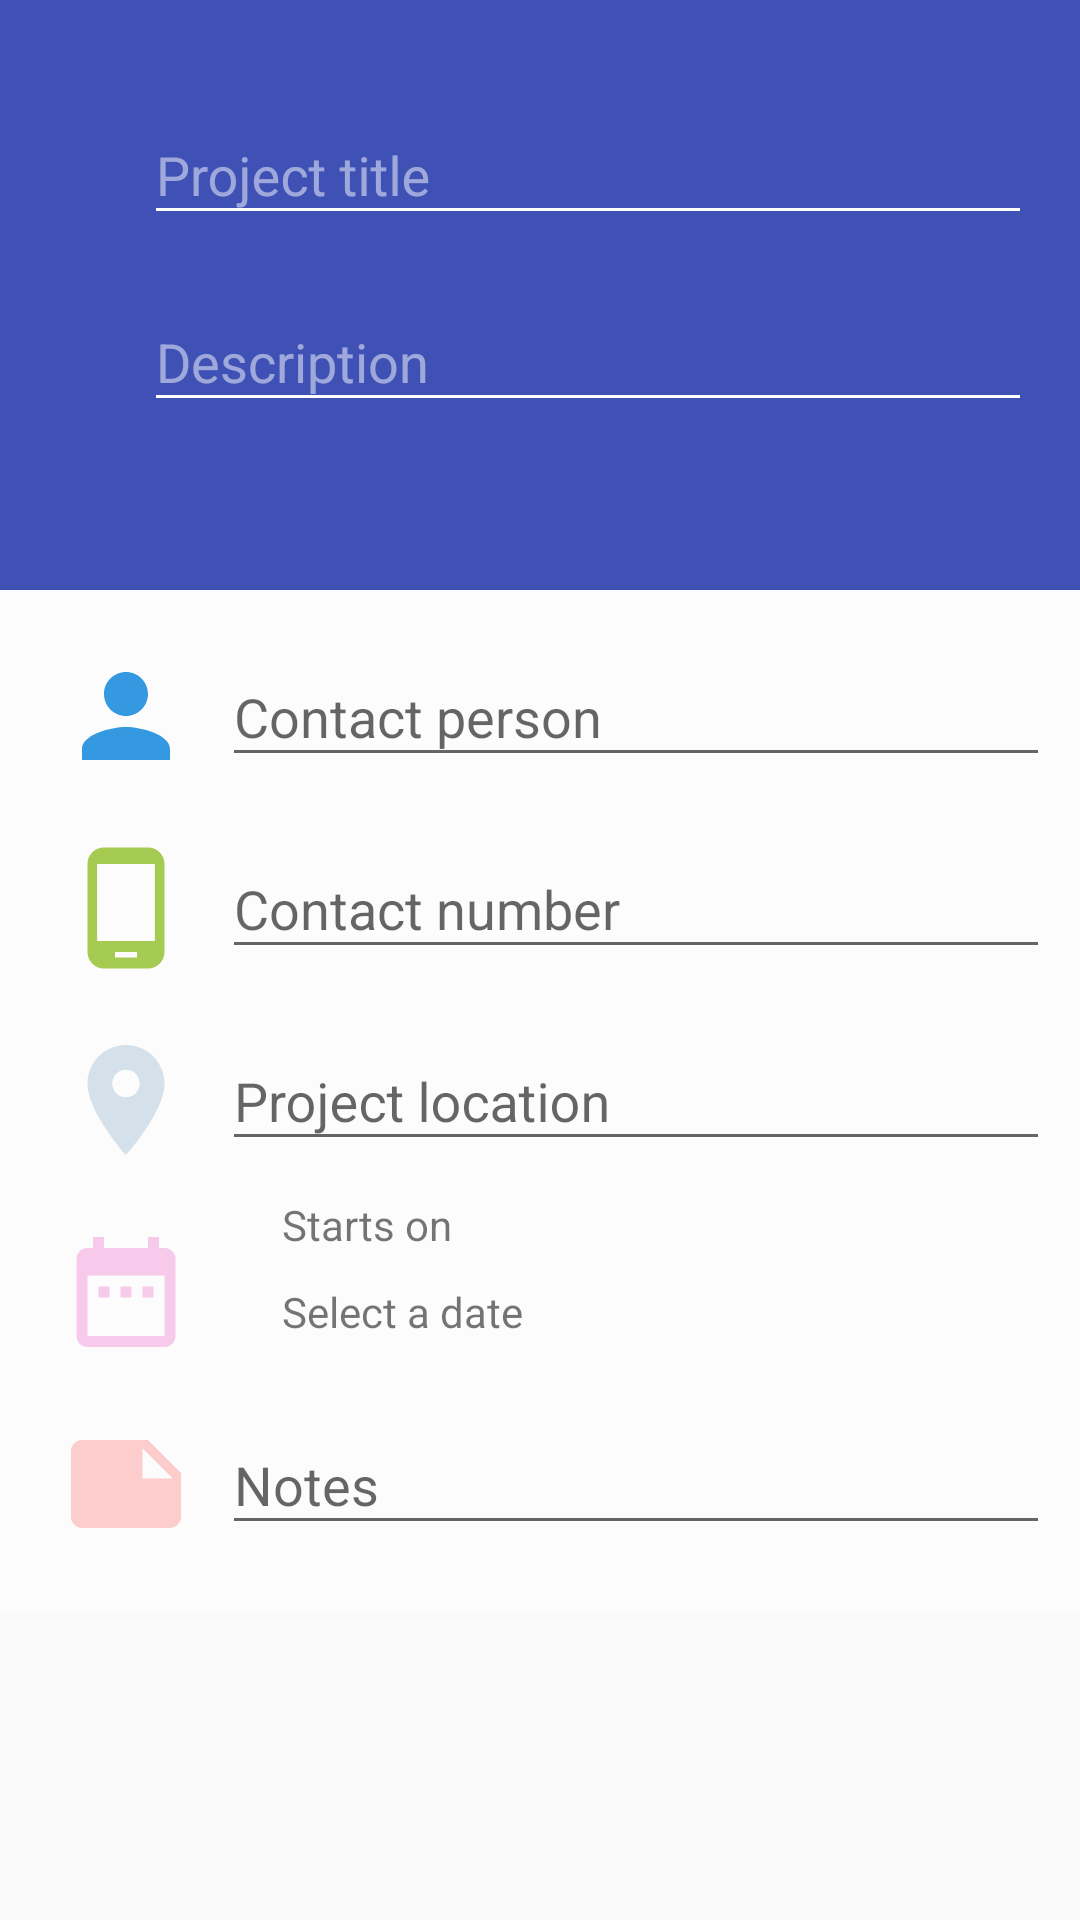

Screen size 1080×1920. Icon name, then its box in pixels as (x1, y1, x2, y2):
date range: (76, 1237, 176, 1347)
note: (71, 1440, 181, 1528)
person: (82, 672, 170, 760)
phone android: (87, 847, 165, 969)
place: (88, 1045, 164, 1155)
